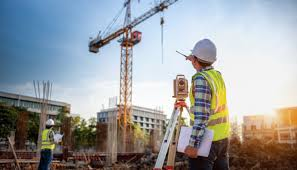hard hat: (190, 40, 224, 64), (44, 118, 56, 127)
safe person: (187, 39, 240, 163), (40, 118, 62, 166)
